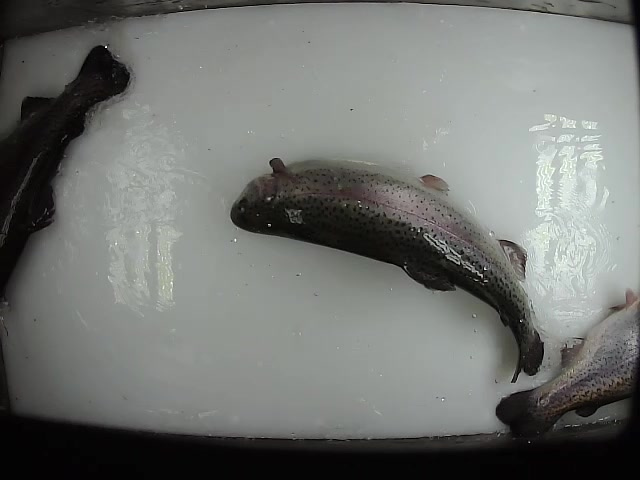fish: (229, 151, 549, 385), (1, 40, 132, 304), (493, 284, 638, 445)
